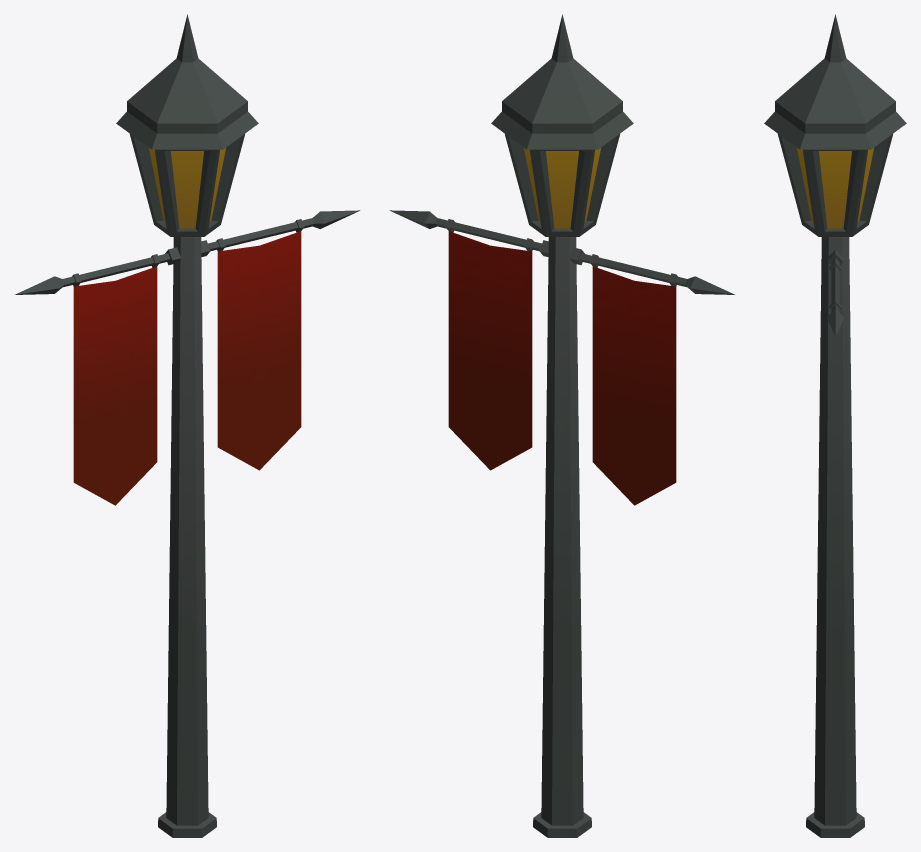
Rendered from Street_lamp_01.fbx.
The picture shows the model from 3 angles, left to right: view 1: azimuth 30°, elevation 25°; view 2: azimuth 150°, elevation 25°; view 3: azimuth 270°, elevation 25°; orthographic projection.
Parts seen in each view (by area): view 1: Street_lamp_1; view 2: Street_lamp_1; view 3: Street_lamp_1.
Boxes of the visible parts, x1=… form: Street_lamp_1: x1=15, y1=14, x2=360, y2=837; Street_lamp_1: x1=389, y1=14, x2=734, y2=837; Street_lamp_1: x1=764, y1=14, x2=906, y2=837.
Size of the model in its own units: 3.1 by 6.93 by 1.1.
